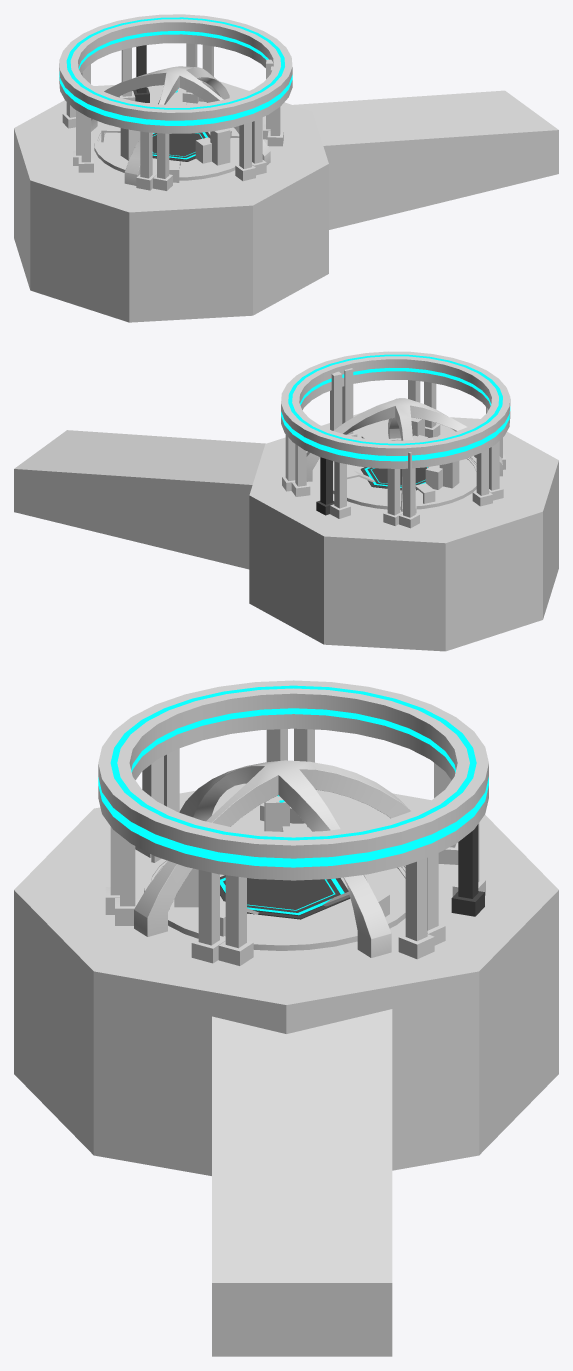
3 views of the same model, one above another, from view 1: azimuth 30°, elevation 25°; view 2: azimuth 150°, elevation 25°; view 3: azimuth 270°, elevation 25° (orthographic). The views are drawn at different scales.
Visible parts, largest first — view 1: Cylinder.011, Plane.001, Cylinder.012, Cube.001, Cylinder, Cylinder.001, Cube.005, Cube.006, Cube.007, Cube.018, Cube.008, Cube.004 (+6 smaller); view 2: Cylinder.011, Plane.001, Cylinder.012, Cube.001, Cylinder, Cube.010, Cube.011, Cube.012, Cube.009, Cube.013, Cube.017, Cube.014 (+7 smaller); view 3: Cylinder.011, Plane.001, Cylinder.012, Cube.001, Cylinder, Cylinder.001, Cube.015, Cube.017, Cube.016, Cube.013, Cube.004, Cube.014 (+4 smaller).
Part boxes in pixels (bbox=[...]): Cylinder.011: bbox=[14, 80, 328, 322]; Plane.001: bbox=[293, 90, 558, 229]; Cylinder.012: bbox=[59, 14, 292, 133]; Cube.001: bbox=[91, 66, 270, 185]; Cylinder: bbox=[94, 124, 239, 180]; Cylinder.001: bbox=[152, 132, 210, 161]; Cube.005: bbox=[235, 122, 255, 181]; Cube.006: bbox=[153, 133, 172, 190]; Cube.007: bbox=[136, 131, 156, 190]; Cube.018: bbox=[210, 128, 230, 165]; Cube.008: bbox=[78, 114, 93, 172]; Cube.004: bbox=[252, 117, 266, 175]; Cylinder.011: bbox=[249, 413, 558, 651]; Plane.001: bbox=[14, 430, 265, 569]; Cylinder.012: bbox=[281, 351, 510, 468]; Cube.001: bbox=[306, 398, 502, 513]; Cylinder: bbox=[333, 438, 476, 509]; Cube.010: bbox=[399, 452, 419, 528]; Cube.011: bbox=[383, 468, 402, 525]; Cube.012: bbox=[330, 461, 350, 518]; Cube.009: bbox=[472, 448, 492, 506]; Cube.013: bbox=[316, 457, 334, 515]; Cube.017: bbox=[330, 371, 342, 430]; Cube.014: bbox=[291, 444, 310, 496]; Cylinder.011: bbox=[14, 783, 558, 1175]; Plane.001: bbox=[212, 1009, 392, 1356]; Cylinder.012: bbox=[98, 680, 488, 880]; Cube.001: bbox=[134, 760, 411, 957]; Cylinder: bbox=[144, 829, 405, 950]; Cylinder.001: bbox=[220, 875, 350, 919]; Cube.015: bbox=[398, 858, 434, 959]; Cube.017: bbox=[218, 875, 253, 965]; Cube.016: bbox=[191, 870, 225, 963]; Cube.013: bbox=[451, 824, 484, 916]; Cube.004: bbox=[115, 835, 140, 925]; Cube.014: bbox=[427, 853, 445, 945].
Size of the model in its own units: 42321 by 15116 by 23597.
